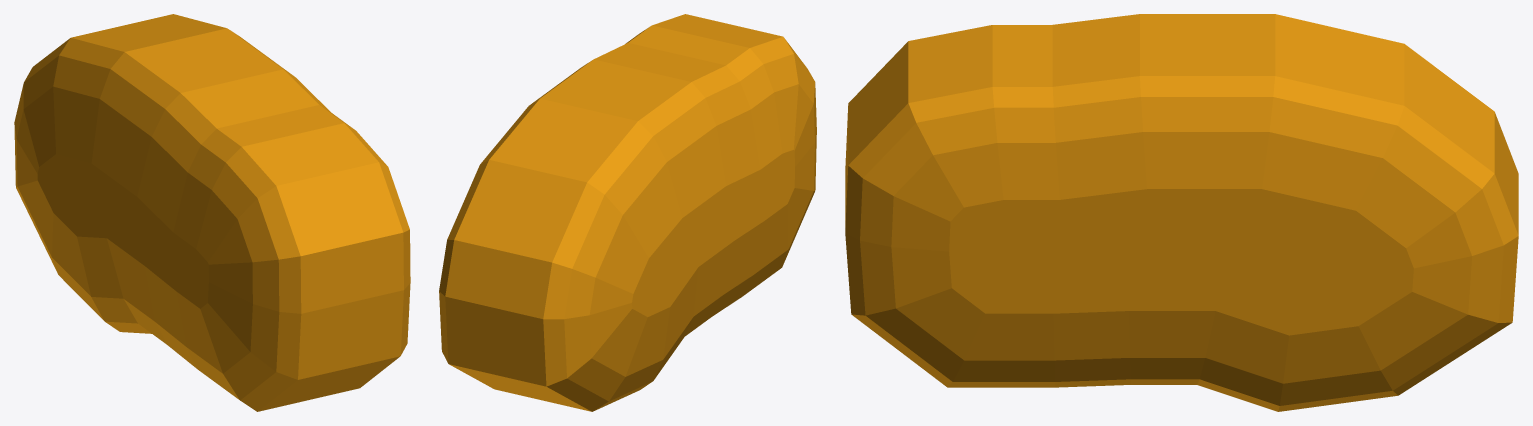
Rendered from potato.fbx.
3 views of the same model, side by side, from view 1: azimuth 30°, elevation 25°; view 2: azimuth 150°, elevation 25°; view 3: azimuth 270°, elevation 25° (orthographic). The views are drawn at different scales.
Parts seen in each view (by area): view 1: Plane; view 2: Plane; view 3: Plane.
Boxes of the visible parts, x1=… form: Plane: x1=14, y1=14, x2=410, y2=411; Plane: x1=439, y1=14, x2=816, y2=411; Plane: x1=845, y1=14, x2=1518, y2=411.
Bounding box in the file's own units: 132 × 203 × 366.
